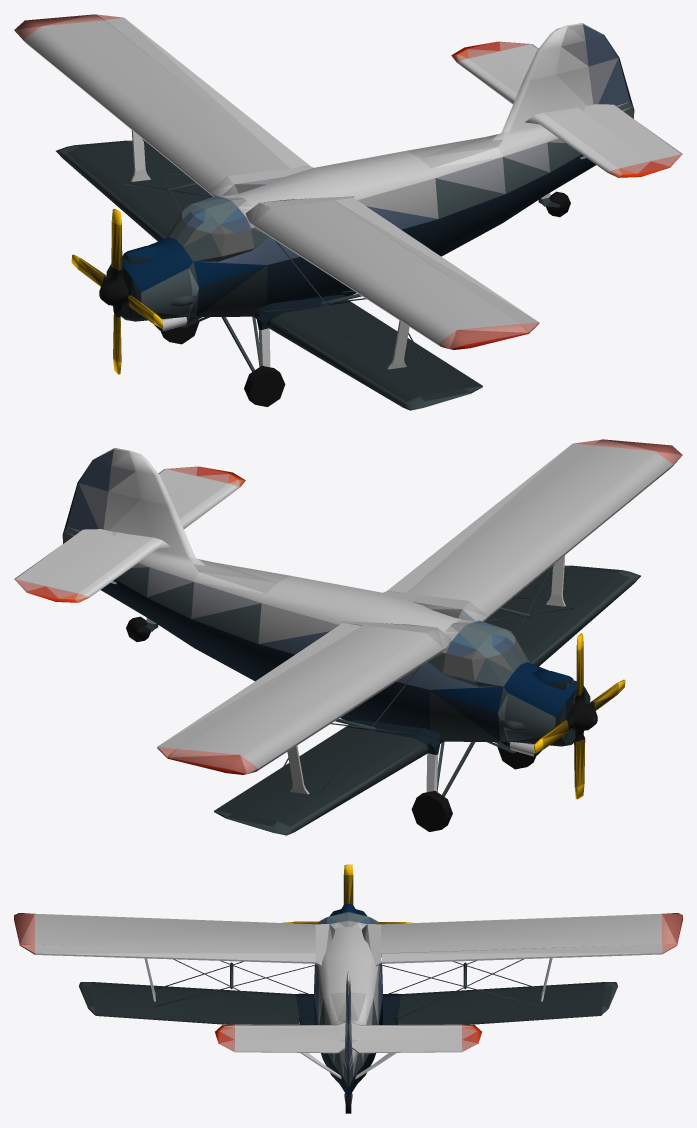
The model's file is aviao-biplano.glb.
The picture shows the model from 3 angles, top to bottom: view 1: azimuth 30°, elevation 25°; view 2: azimuth 150°, elevation 25°; view 3: azimuth 270°, elevation 25°; orthographic projection. The views are drawn at different scales.
Parts seen in each view (by area): view 1: An2, Aileron_UL, Prop, WheelR, Rudder, Elevator; view 2: An2, Aileron_UL, Prop, WheelR, Rudder, Elevator; view 3: An2, Aileron_UL, Prop, Rudder, Elevator, Aileron_BR.
Boxes of the visible parts, <box> form: An2: <box>14,14,670,410</box>; Aileron_UL: <box>96,14,682,332</box>; Prop: <box>71,57,634,393</box>; WheelR: <box>99,191,570,406</box>; Rudder: <box>583,24,633,118</box>; Elevator: <box>531,23,682,153</box>; An2: <box>26,439,682,835</box>; Aileron_UL: <box>14,439,600,758</box>; Prop: <box>62,482,625,818</box>; WheelR: <box>126,616,597,831</box>; Rudder: <box>63,449,113,543</box>; Elevator: <box>14,448,165,578</box>; An2: <box>14,903,682,1103</box>; Aileron_UL: <box>20,944,676,1053</box>; Prop: <box>88,864,608,1097</box>; Rudder: <box>343,983,353,1097</box>; Elevator: <box>235,981,461,1070</box>; Aileron_BR: <box>89,1006,607,1024</box>.
Size of the model in its own units: 12.65 by 5.98 by 18.2.
